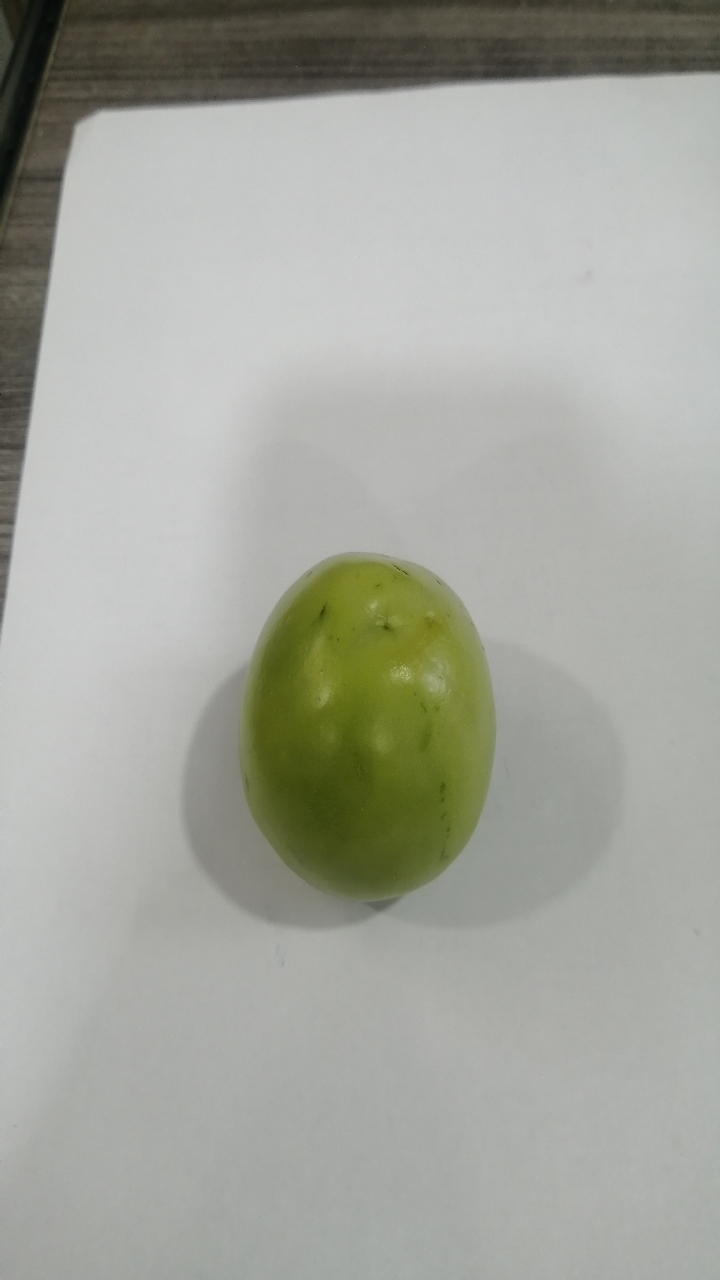tomateVerde: (223, 525, 498, 928)
